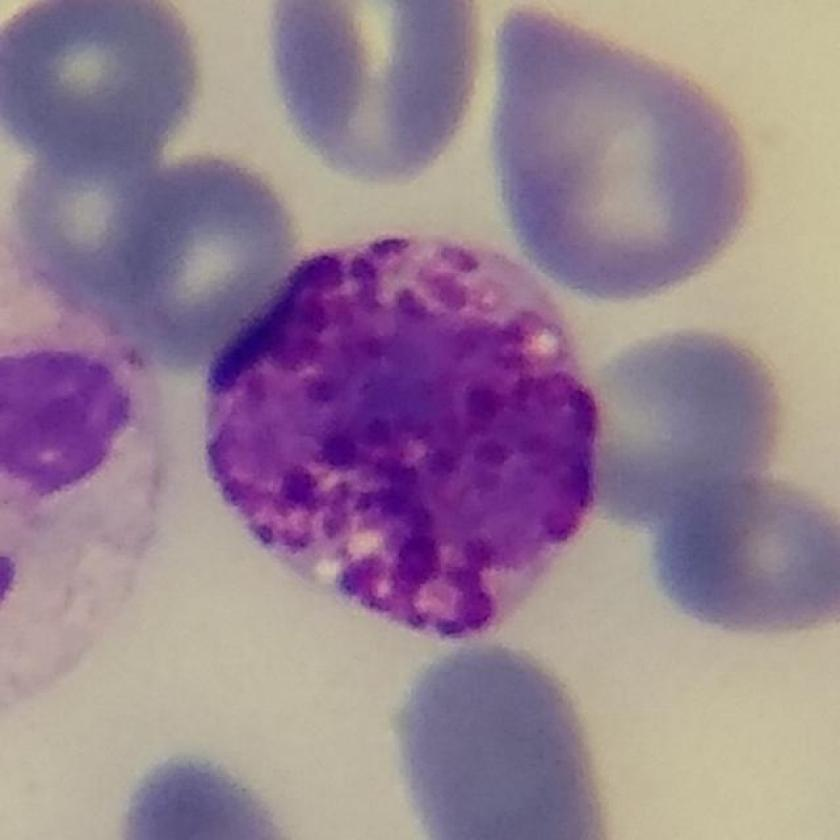basophil: (201, 226, 613, 651)
